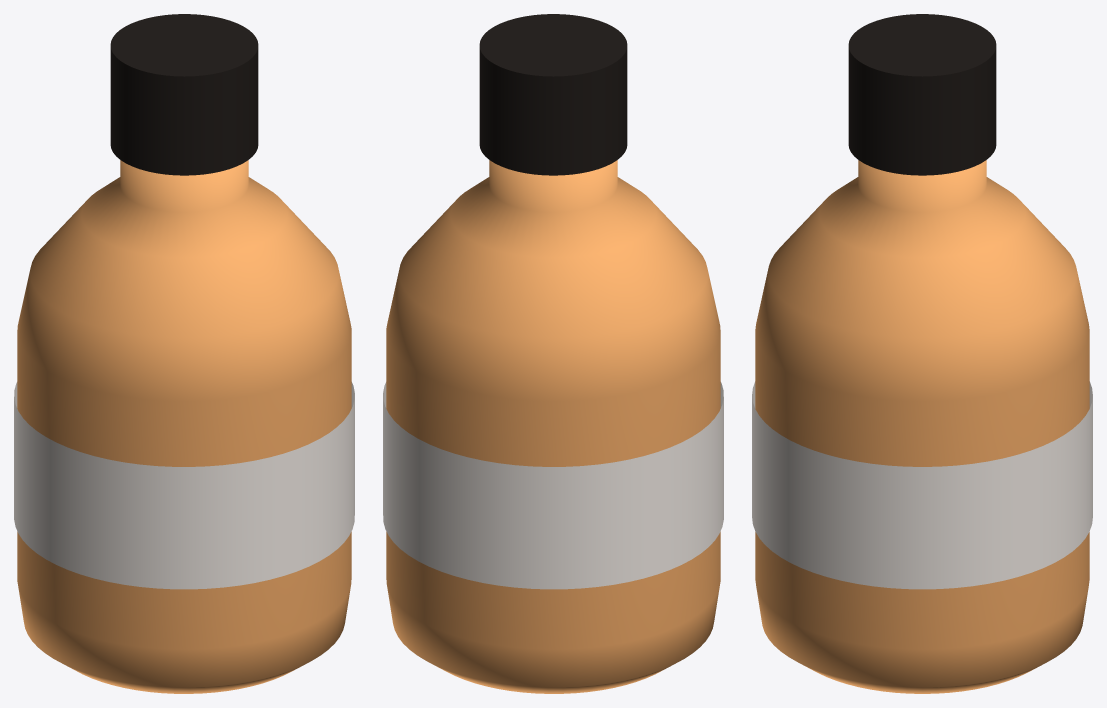
File: bottle.glb
3 views of the same model, side by side, from view 1: azimuth 30°, elevation 25°; view 2: azimuth 150°, elevation 25°; view 3: azimuth 270°, elevation 25° (orthographic).
Visible parts, largest first — view 1: Bottle, Label, Cap; view 2: Bottle, Label, Cap; view 3: Bottle, Label, Cap.
Boxes of the visible parts, x1,y1,x2,y2 form: Bottle: (17, 160, 351, 693); Label: (14, 382, 354, 589); Cap: (110, 14, 258, 175); Bottle: (386, 160, 720, 693); Label: (383, 382, 723, 589); Cap: (479, 14, 627, 175); Bottle: (755, 160, 1089, 693); Label: (752, 381, 1092, 589); Cap: (848, 14, 996, 175).
Bounding box in the file's own units: 1.06 × 2.03 × 1.06.
